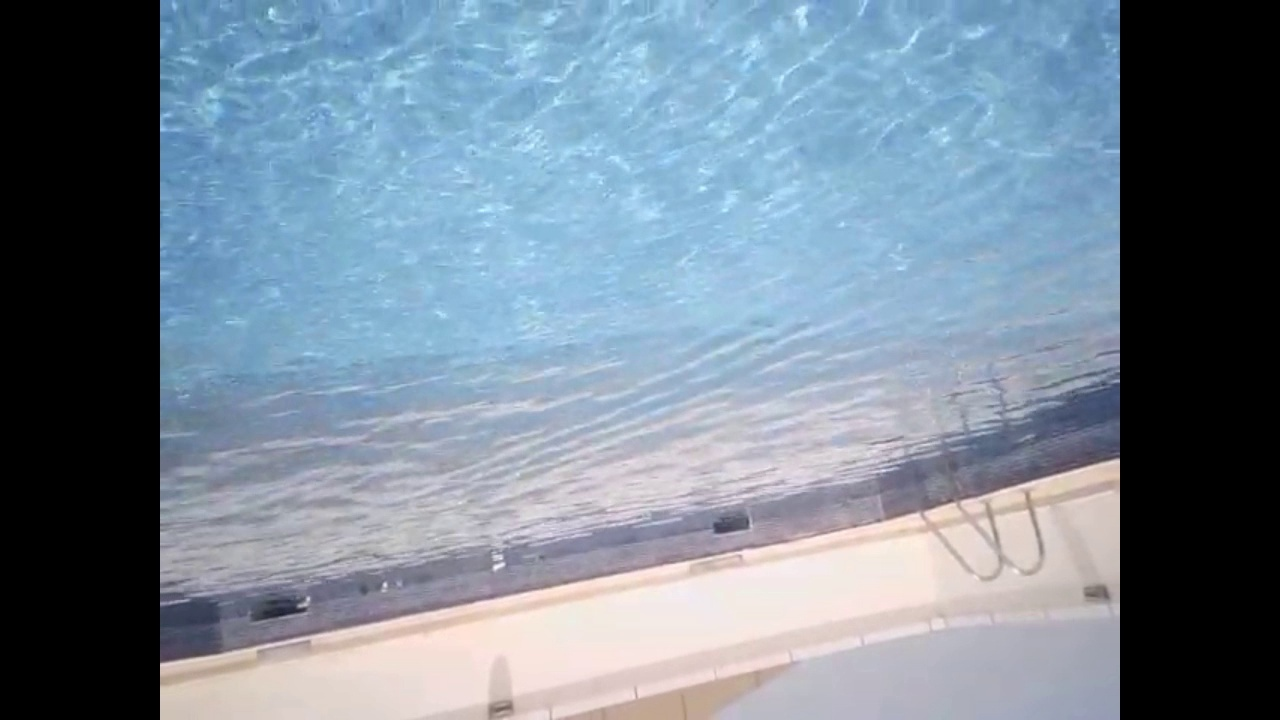debris: (292, 591, 314, 611), (487, 559, 513, 575), (354, 582, 373, 600), (391, 575, 406, 592), (377, 579, 389, 595)
